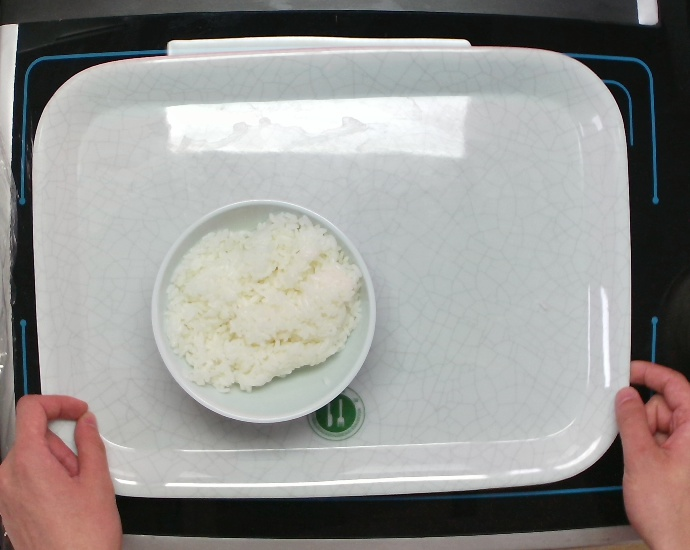JYsf-Fan_Wan: (149, 196, 378, 425)
